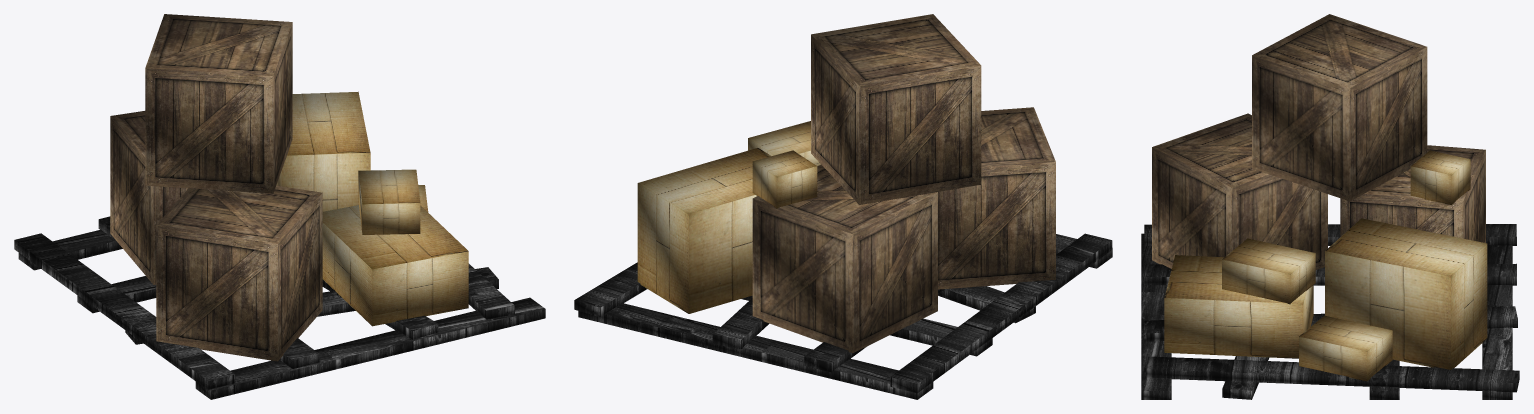
Rendered from Поддон с ящиками.fbx.
3 views of the same model, side by side, from view 1: azimuth 30°, elevation 25°; view 2: azimuth 150°, elevation 25°; view 3: azimuth 270°, elevation 25° (orthographic). The views are drawn at different scales.
Parts seen in each view (by area): view 1: Объект Куб, Объект Куб.1, Объект Куб.16; view 2: Объект Куб, Объект Куб.1, Объект Куб.16; view 3: Объект Куб, Объект Куб.1, Объект Куб.16.
Part boxes in pixels (<box>): Объект Куб: <box>110,14,322,361</box>; Объект Куб.1: <box>276,91,468,326</box>; Объект Куб.16: <box>14,216,545,399</box>; Объект Куб: <box>752,14,1055,353</box>; Объект Куб.1: <box>637,121,820,313</box>; Объект Куб.16: <box>574,233,1112,399</box>; Объект Куб: <box>1152,14,1485,269</box>; Объект Куб.1: <box>1164,150,1487,381</box>; Объект Куб.16: <box>1141,224,1519,399</box>.
Size of the model in its own units: 202 by 144 by 203.
3 materials, 3 textured.
